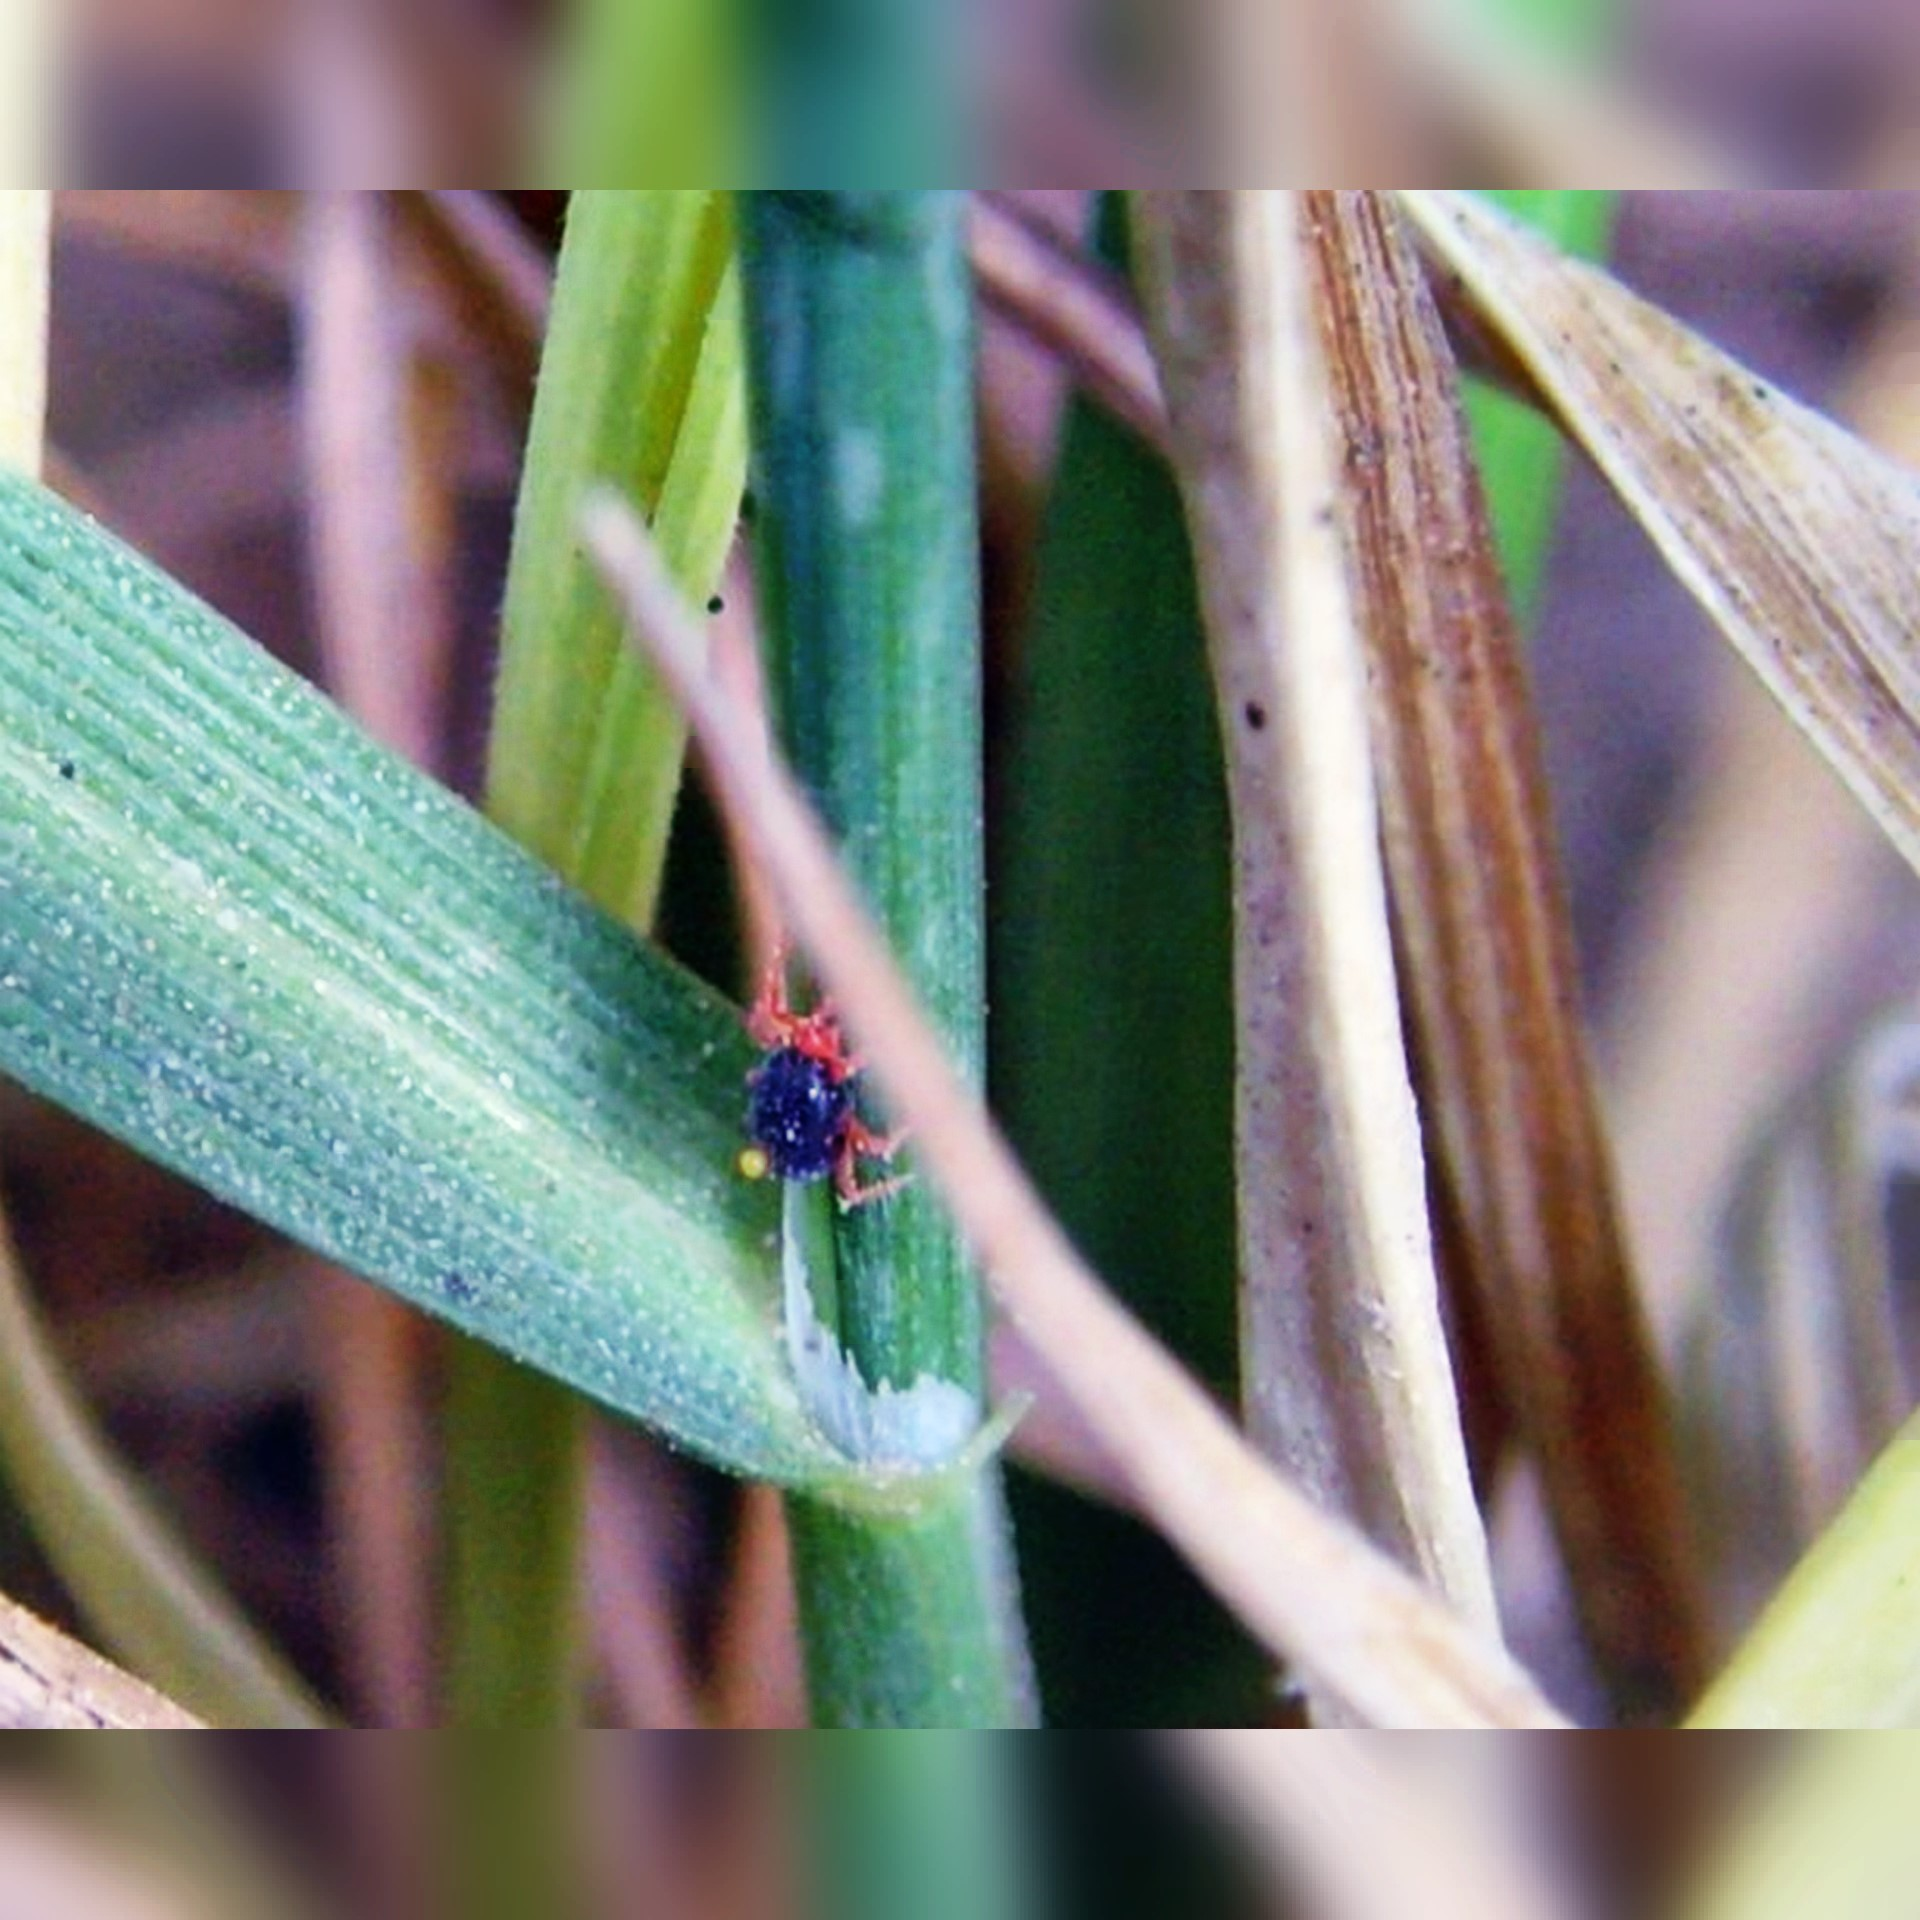Wheat Red Spider: (689, 953, 925, 1252)
